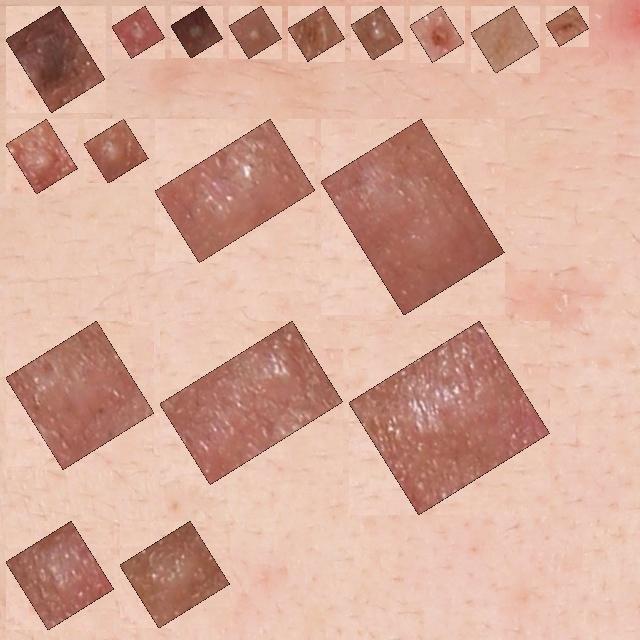hypertrophic_scar: (360, 332, 539, 504), (332, 130, 493, 304), (171, 332, 332, 473), (166, 130, 304, 251), (17, 332, 143, 458), (17, 532, 103, 619), (131, 532, 219, 617)
melasma: (482, 17, 528, 62)
nevus: (17, 17, 94, 101), (421, 17, 453, 51), (557, 17, 578, 35)
pustule: (17, 130, 66, 183), (95, 130, 137, 172), (362, 17, 392, 49), (123, 17, 154, 47), (240, 17, 270, 47), (182, 17, 211, 47)
